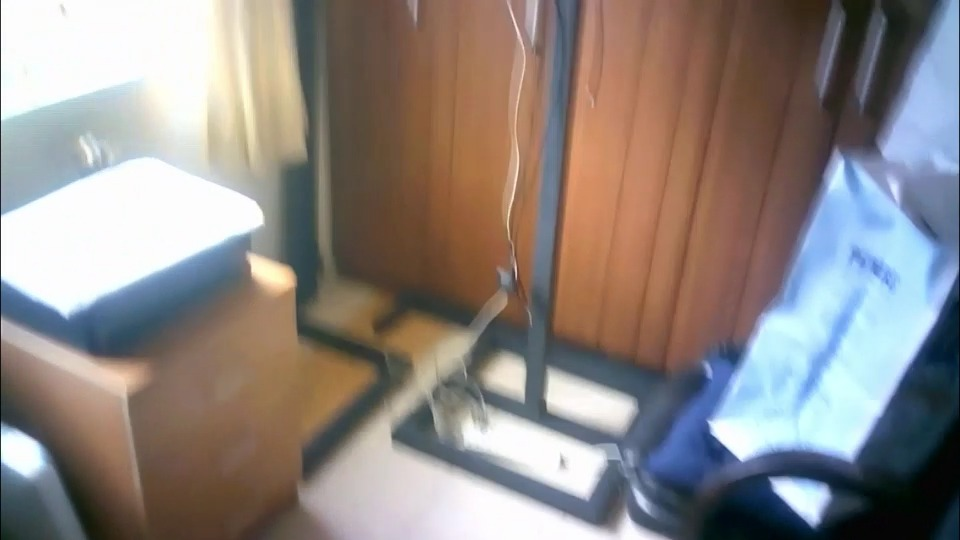wheat_flour_blue_label: (711, 145, 960, 529)
